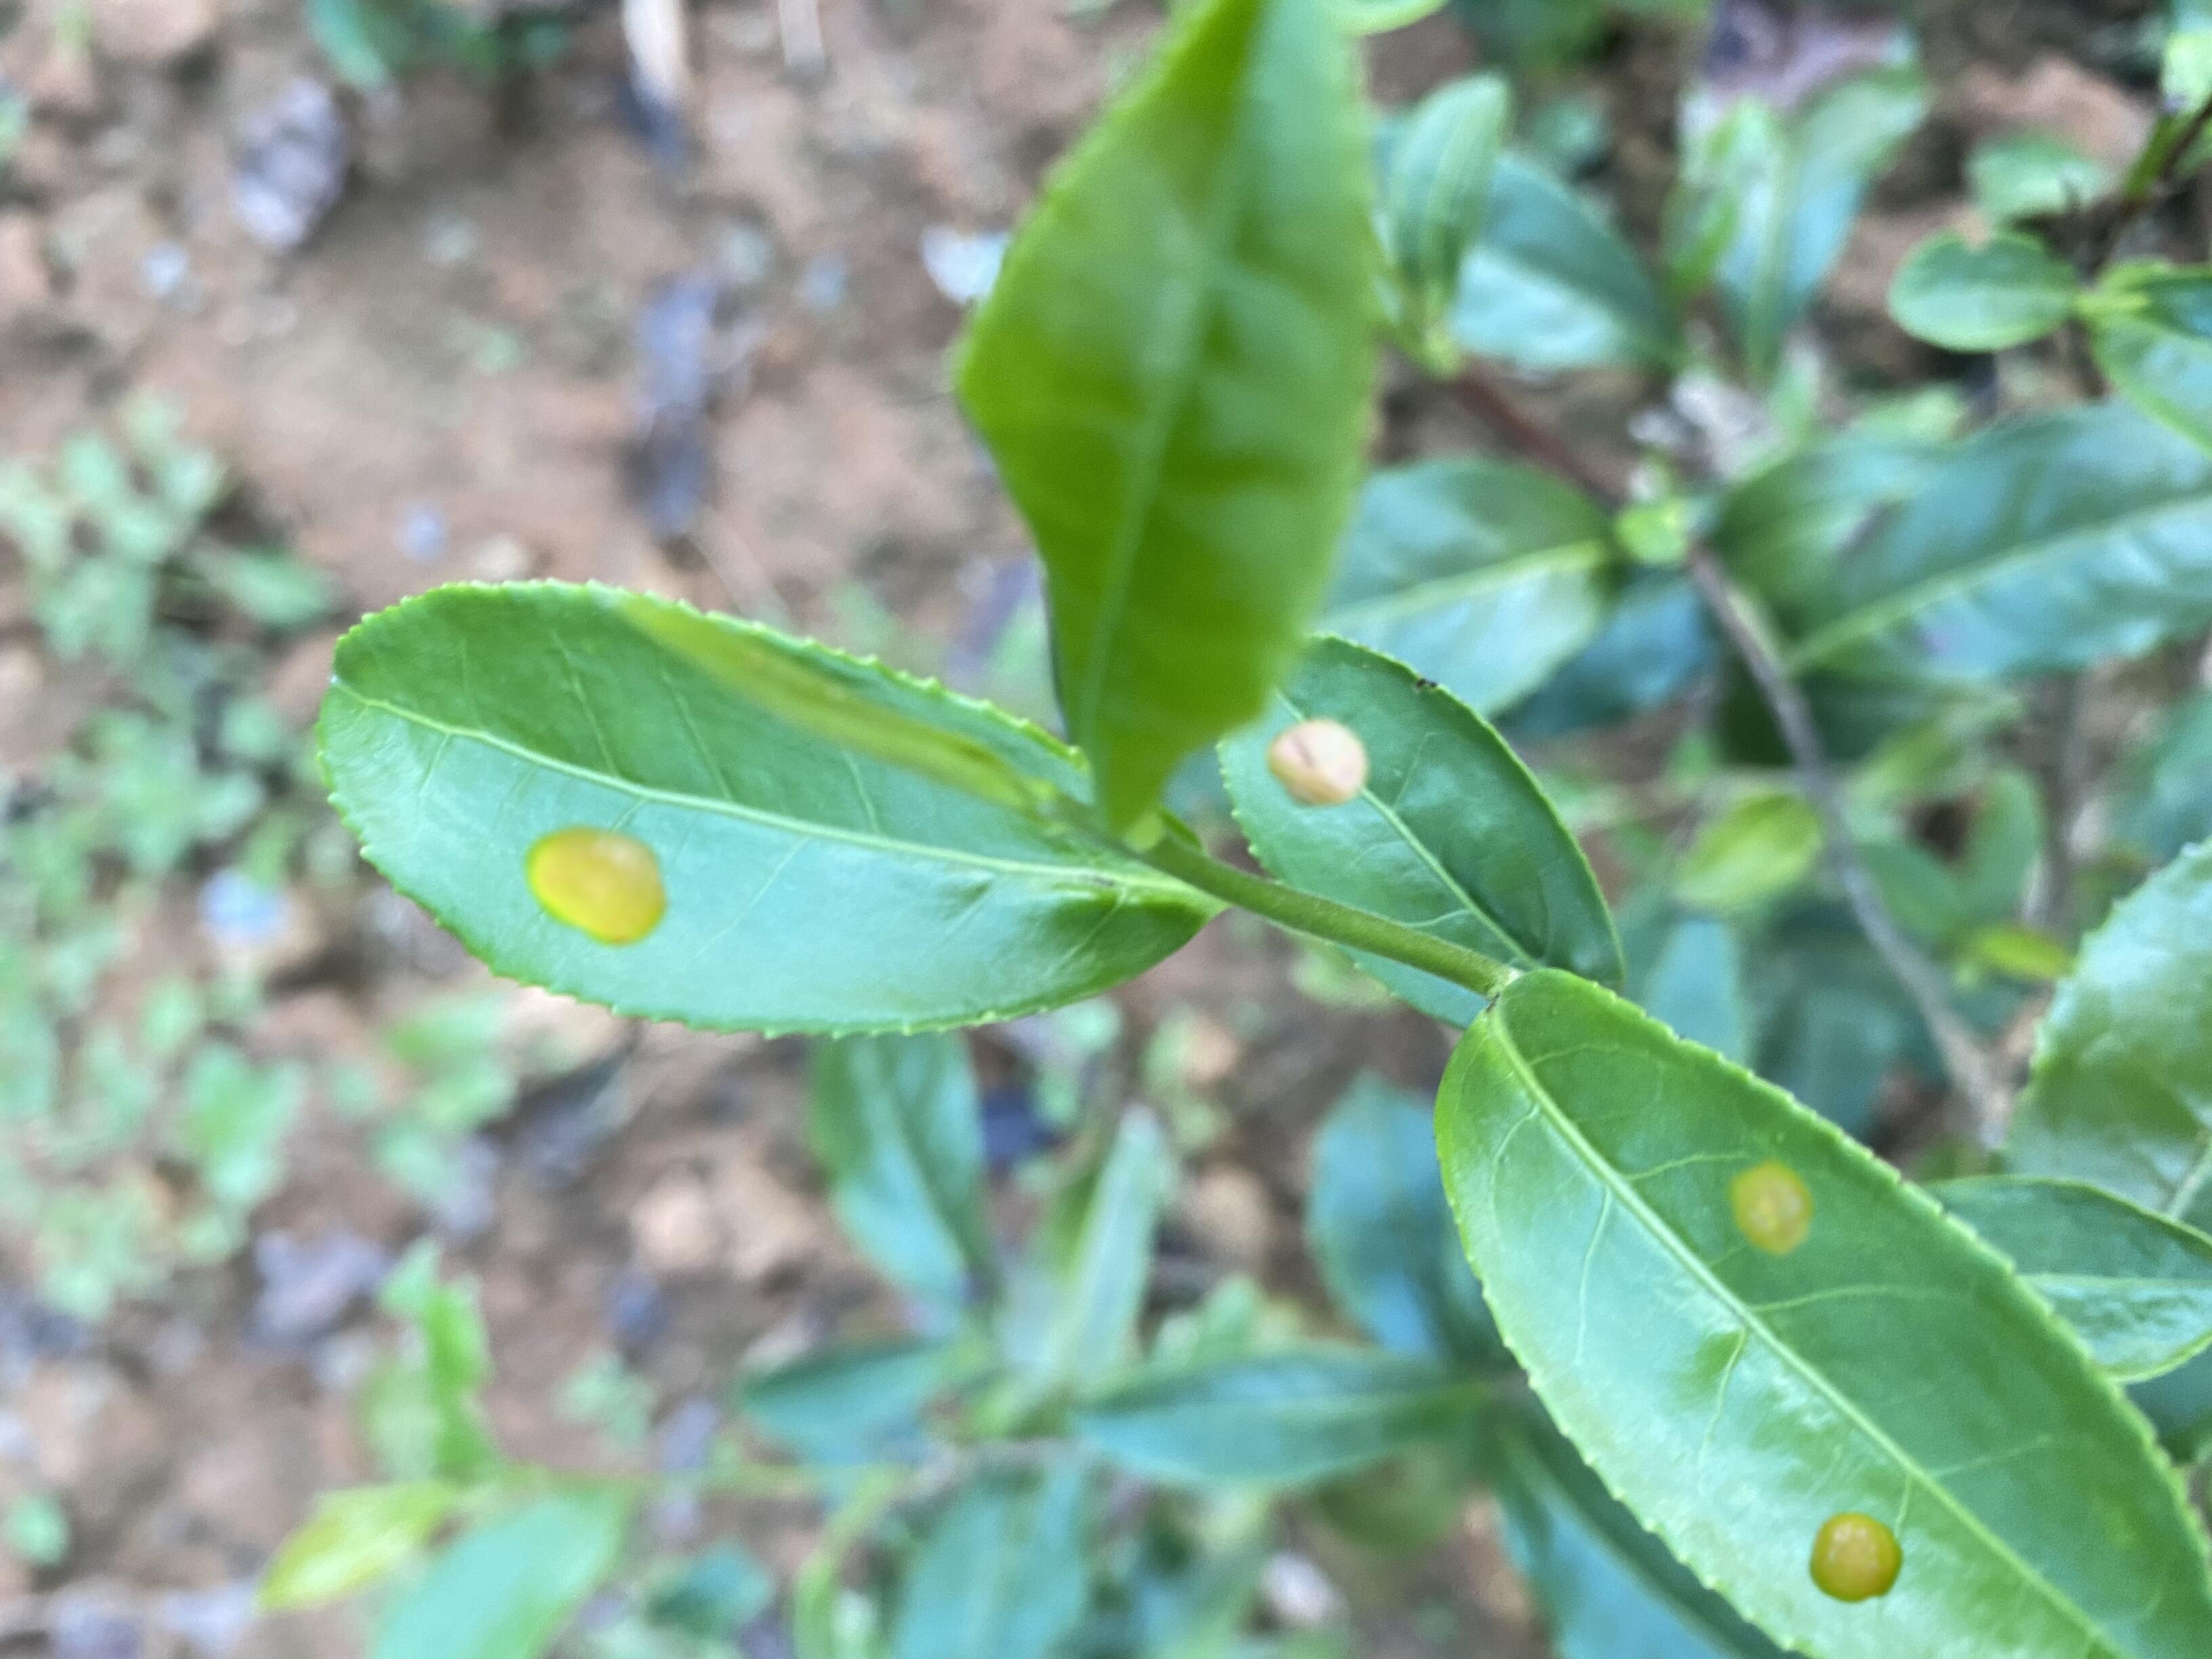chabing_high: (1432, 969, 2209, 1652)
chabing_low: (315, 577, 1223, 1040), (1219, 633, 1627, 1025)
healthy: (958, 2, 1381, 838)
